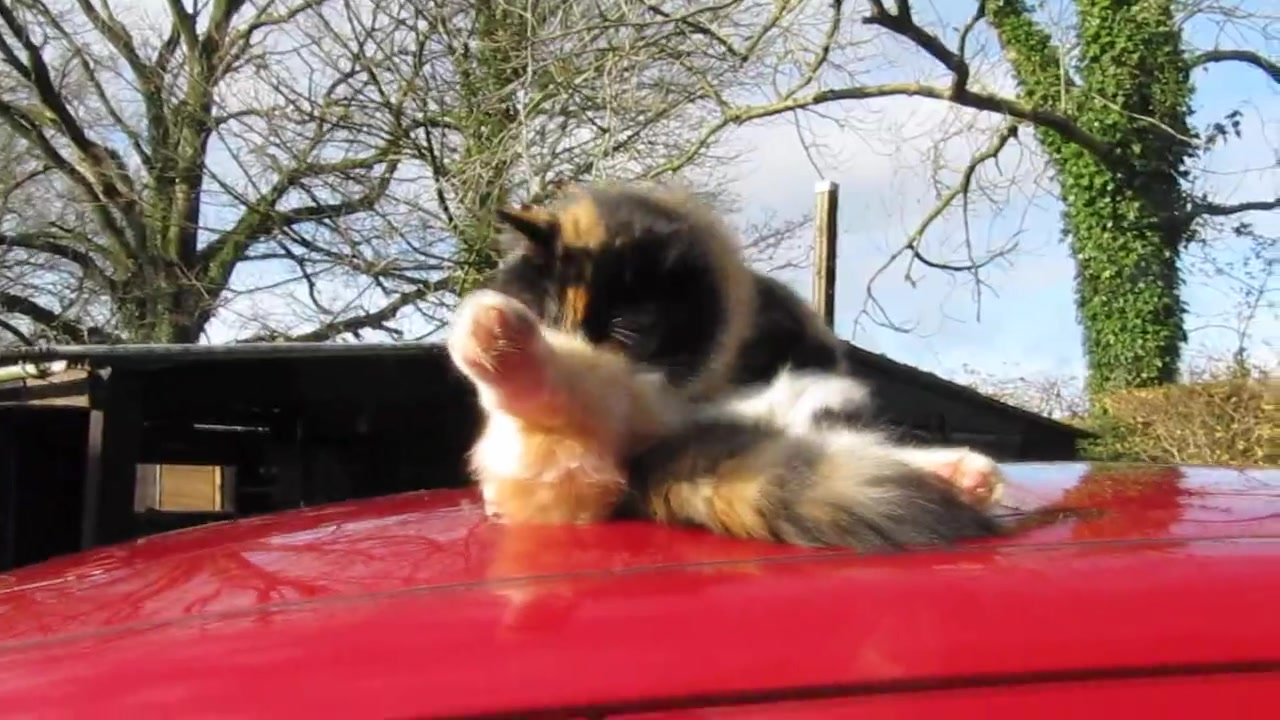cat: (444, 178, 1003, 561)
